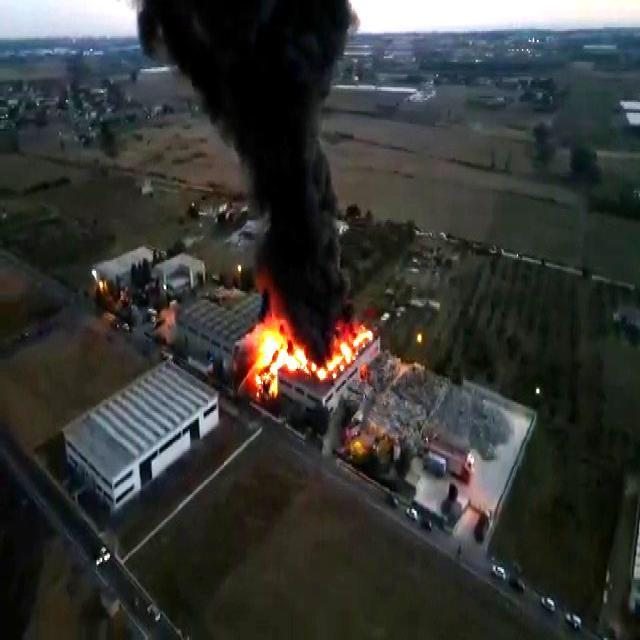Fire: (316, 308, 378, 385), (248, 318, 308, 392)
Smoke: (182, 0, 351, 327)
